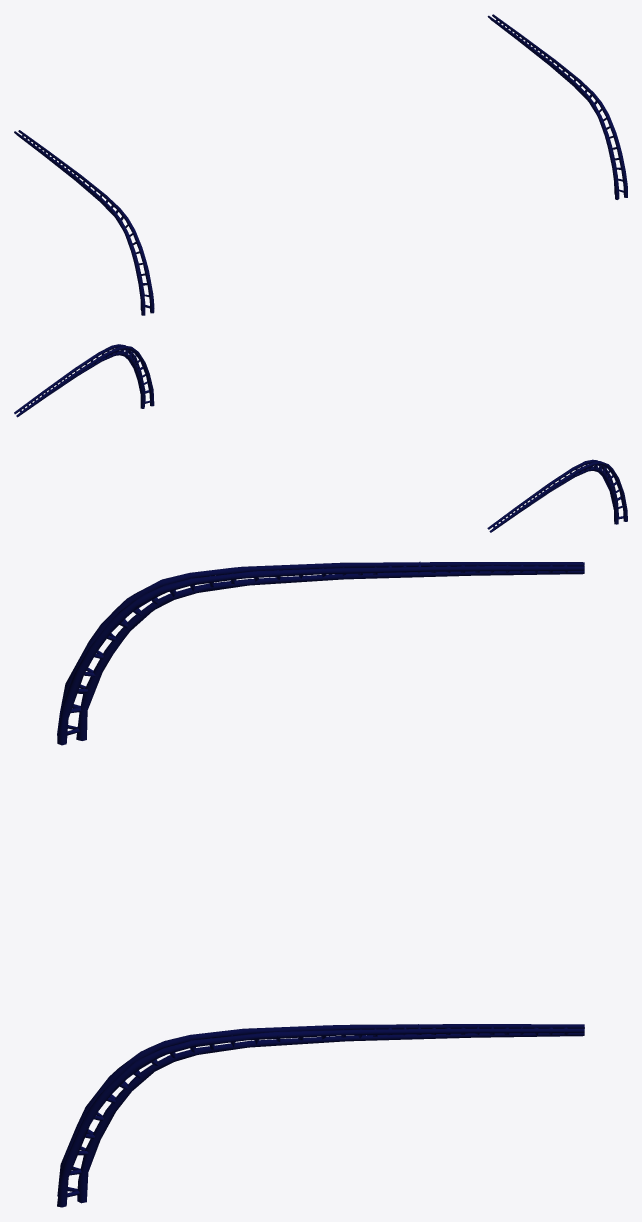
The model's file is Al_Nasar_Football_Stadium_NurbsPath_016.FBX.
3 renders of one model, top to bottom at view 1: azimuth 30°, elevation 25°; view 2: azimuth 150°, elevation 25°; view 3: azimuth 270°, elevation 25°, orthographic. The views are drawn at different scales.
Parts seen in each view (by area): view 1: Al_Nasar_Football_Stadium_NurbsPath_016; view 2: Al_Nasar_Football_Stadium_NurbsPath_016; view 3: Al_Nasar_Football_Stadium_NurbsPath_016.
Boxes of the visible parts, left/top/right/bottom form: Al_Nasar_Football_Stadium_NurbsPath_016: left=14, top=14, right=627, bottom=315; Al_Nasar_Football_Stadium_NurbsPath_016: left=14, top=344, right=627, bottom=532; Al_Nasar_Football_Stadium_NurbsPath_016: left=57, top=561, right=584, bottom=1207.
Bounding box in the file's own units: 14033 × 6600 × 2424.
